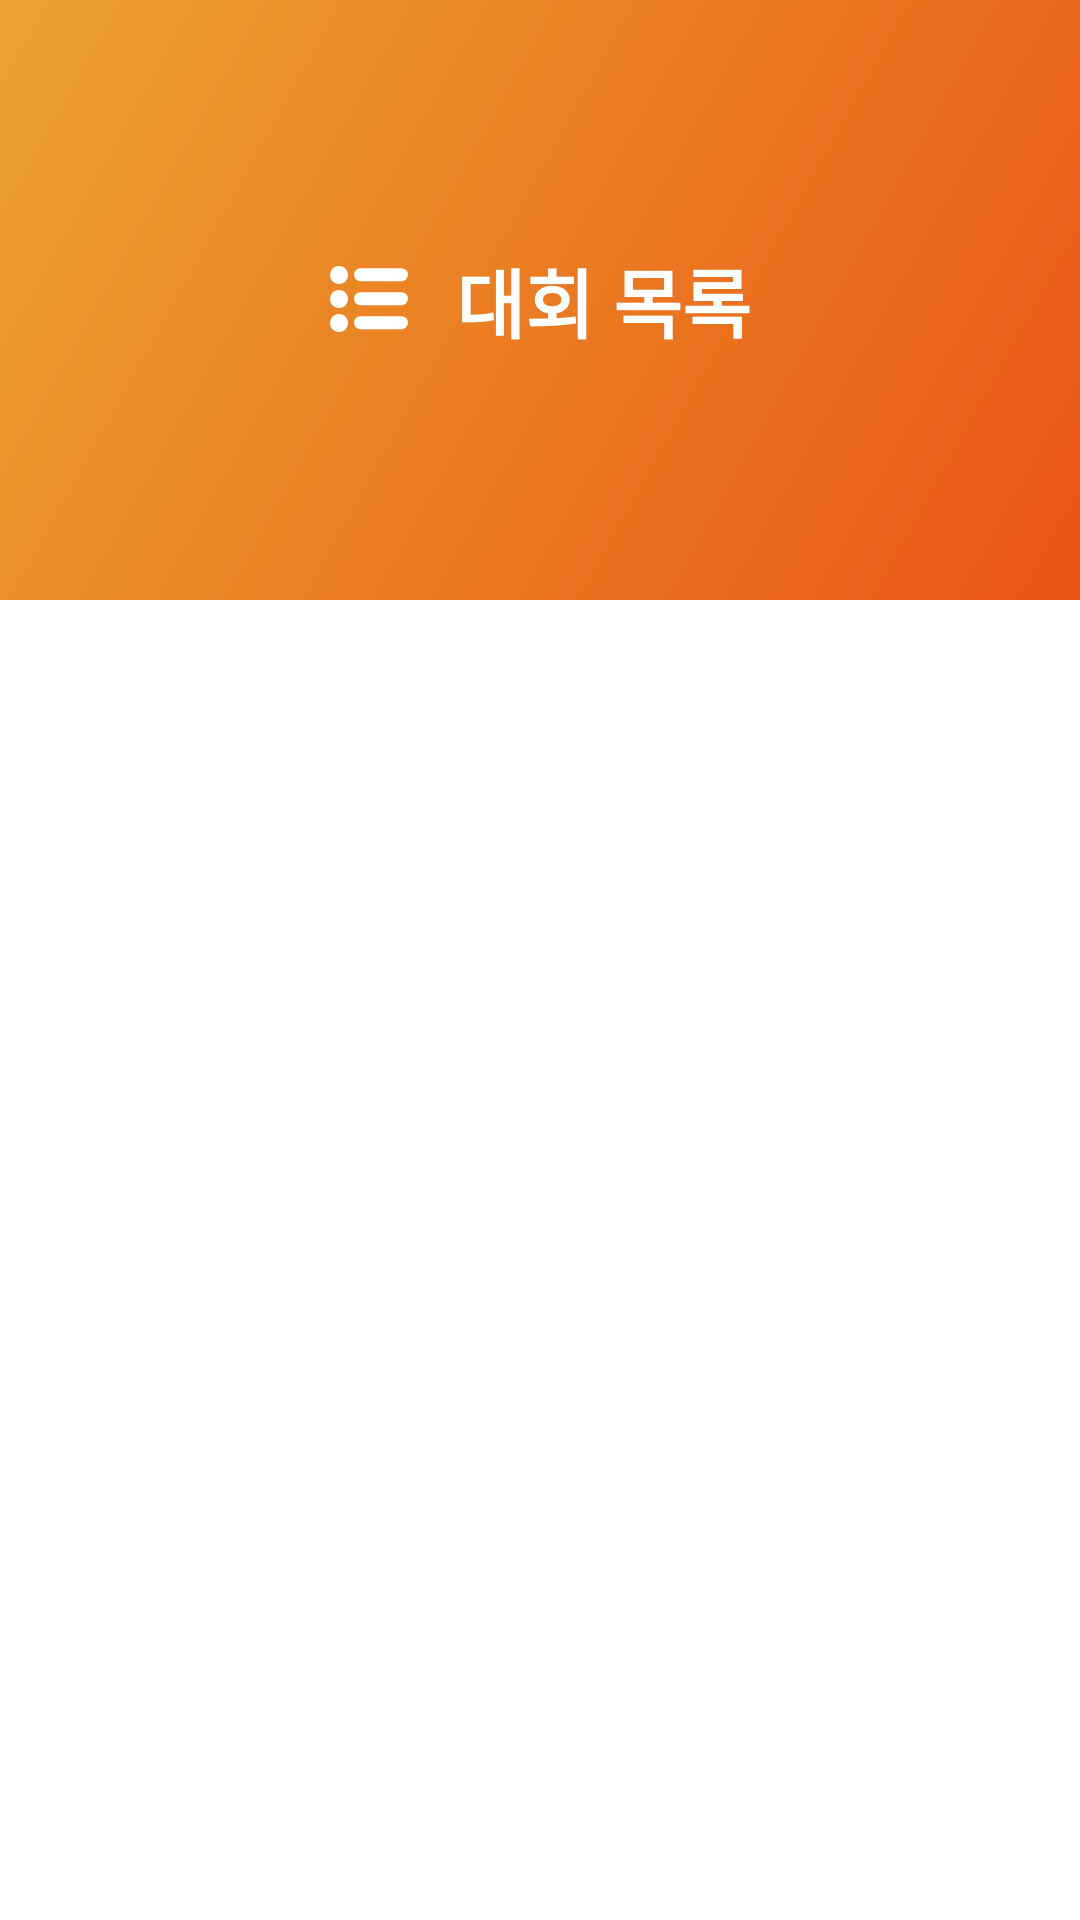

Screen size 1080 x 1920. Icon name, then its box in pixels as Rect(x1, y1, x2, y2):
index: Rect(330, 266, 408, 332)
